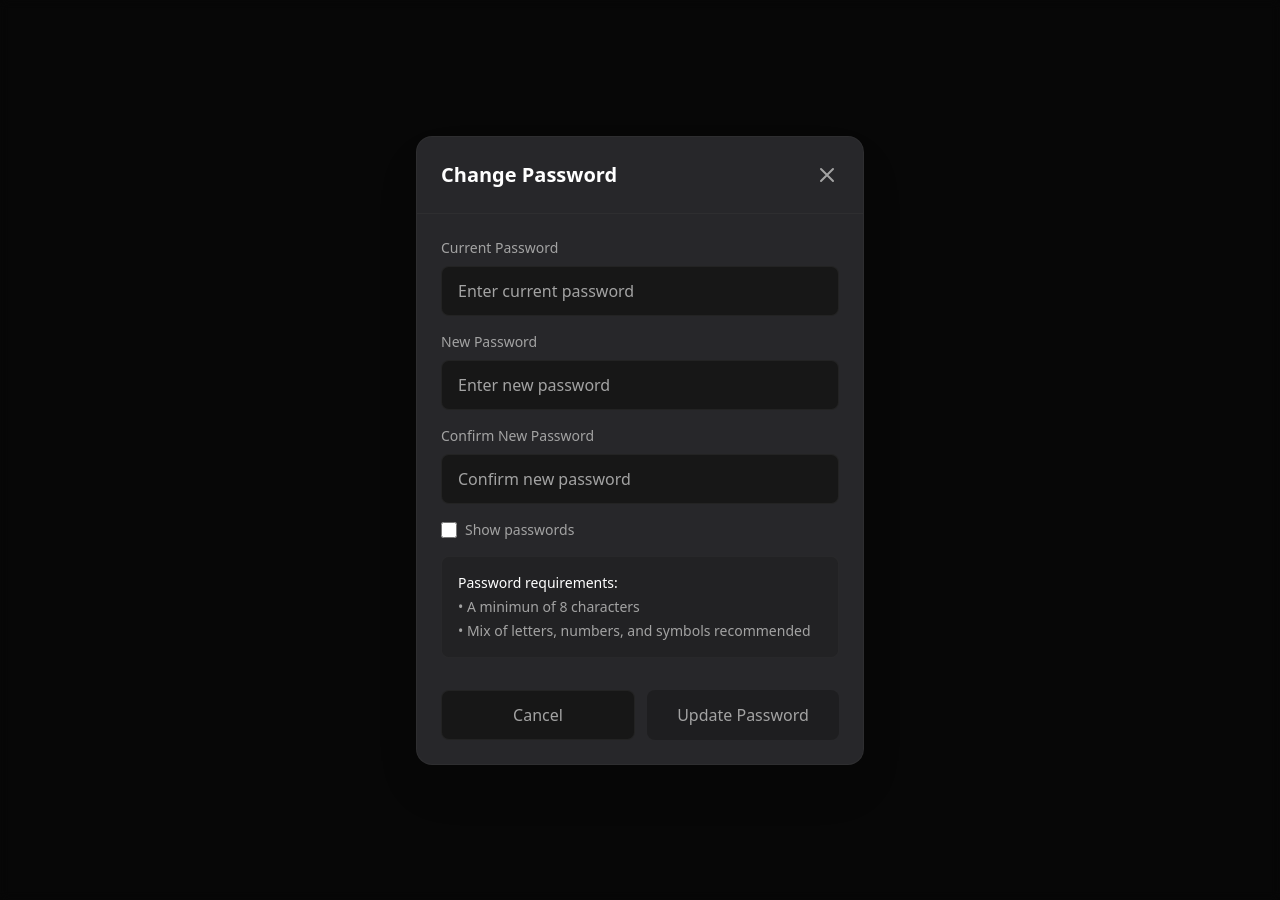
new password too short shows helper text and keeps disabled
Type "short" into the password field with placeholder "Enter new password".
click(640, 384); type("short")  # box [441,360,839,410]
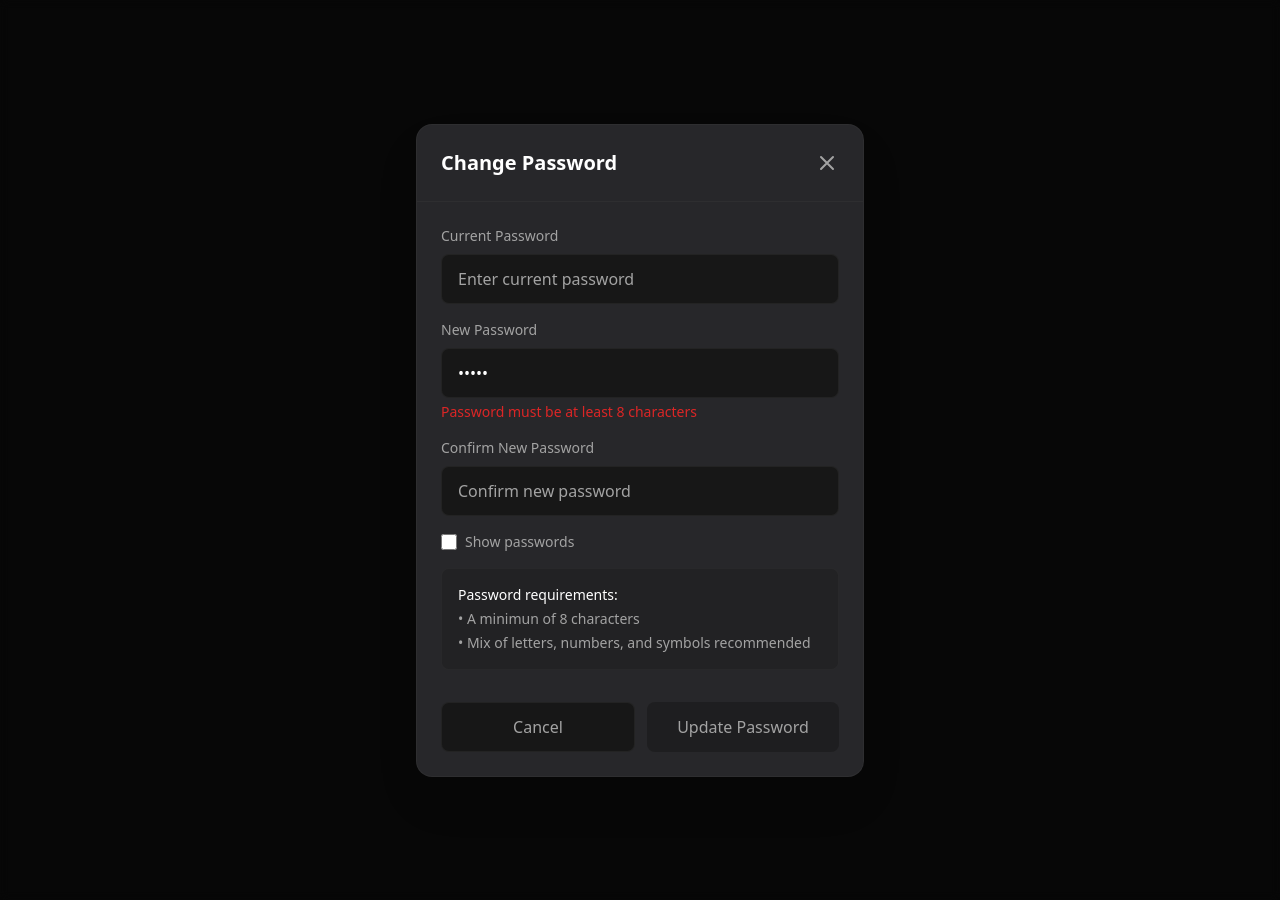
Expected: the button "Update Password" is disabled, [647,702,839,752]
Expected: the text "Password must be at least 8 characters" is shown, [441,402,697,420]
